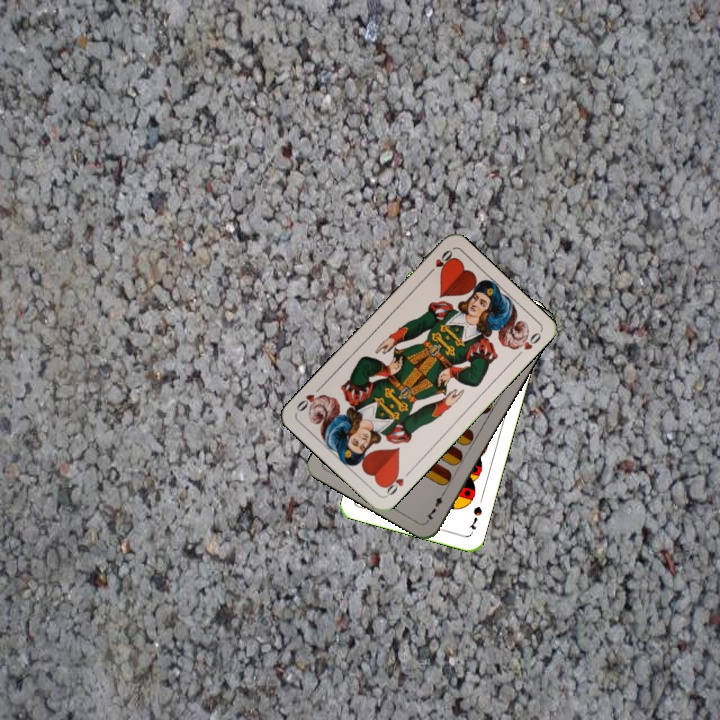E7: (422, 487, 448, 524)
HO: (380, 466, 414, 499), (423, 246, 455, 279)
S7: (465, 502, 485, 532)
